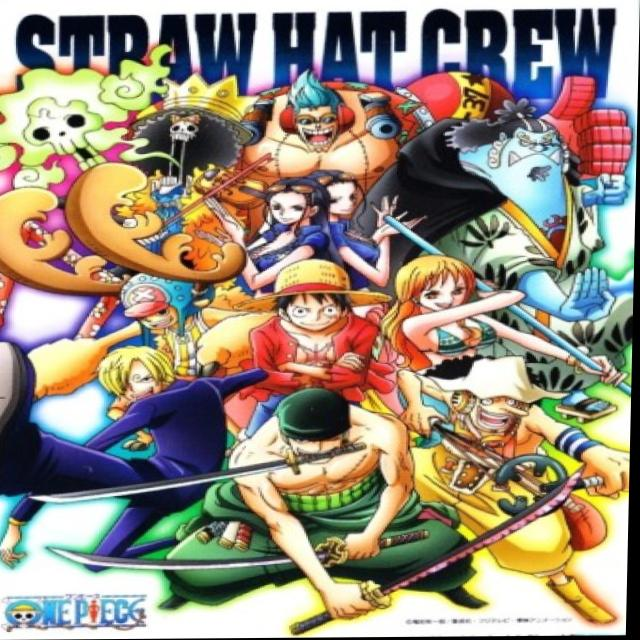Blook: (121, 76, 254, 187)
Chyopa: (110, 273, 220, 333)
Franky: (261, 71, 369, 154)
Luffy: (229, 256, 390, 341)
Nami: (389, 256, 510, 322)
NicoRobin: (255, 171, 337, 245), (310, 168, 379, 233)
Sangdi: (82, 341, 188, 414)
Usopp: (422, 355, 573, 445)
Zoro: (264, 386, 379, 474)
